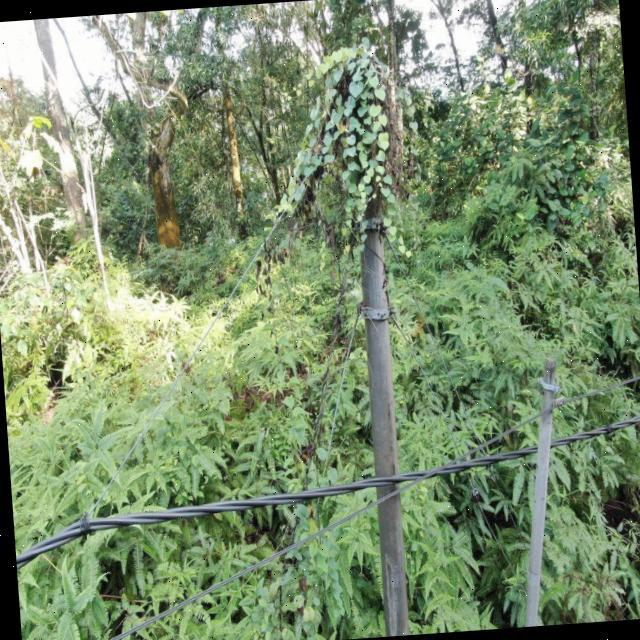critical vegetation: (244, 32, 417, 279)
